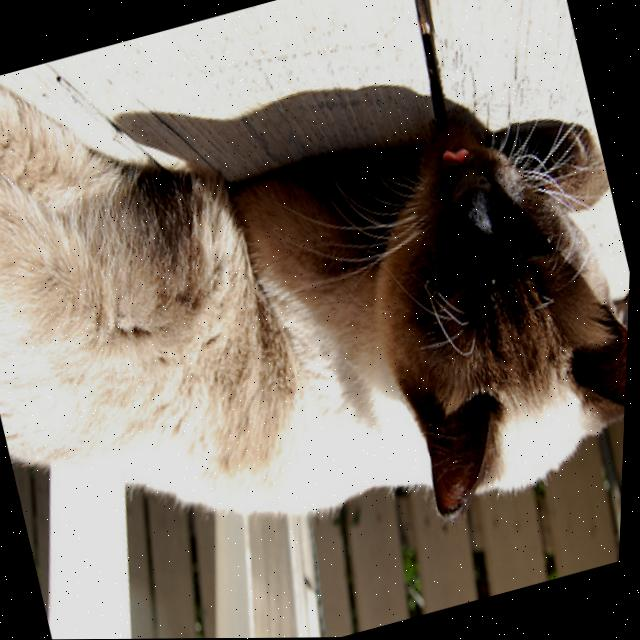Siamese: (0, 0, 640, 632)
